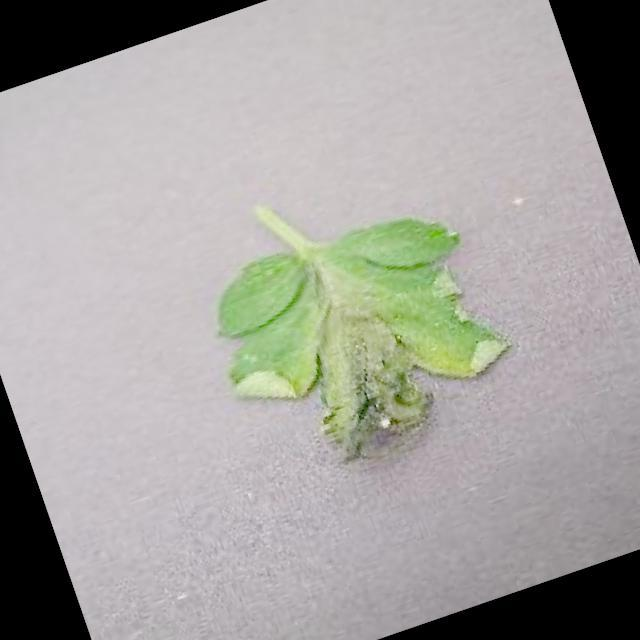Tomato late blight leaf: (183, 190, 530, 508)
